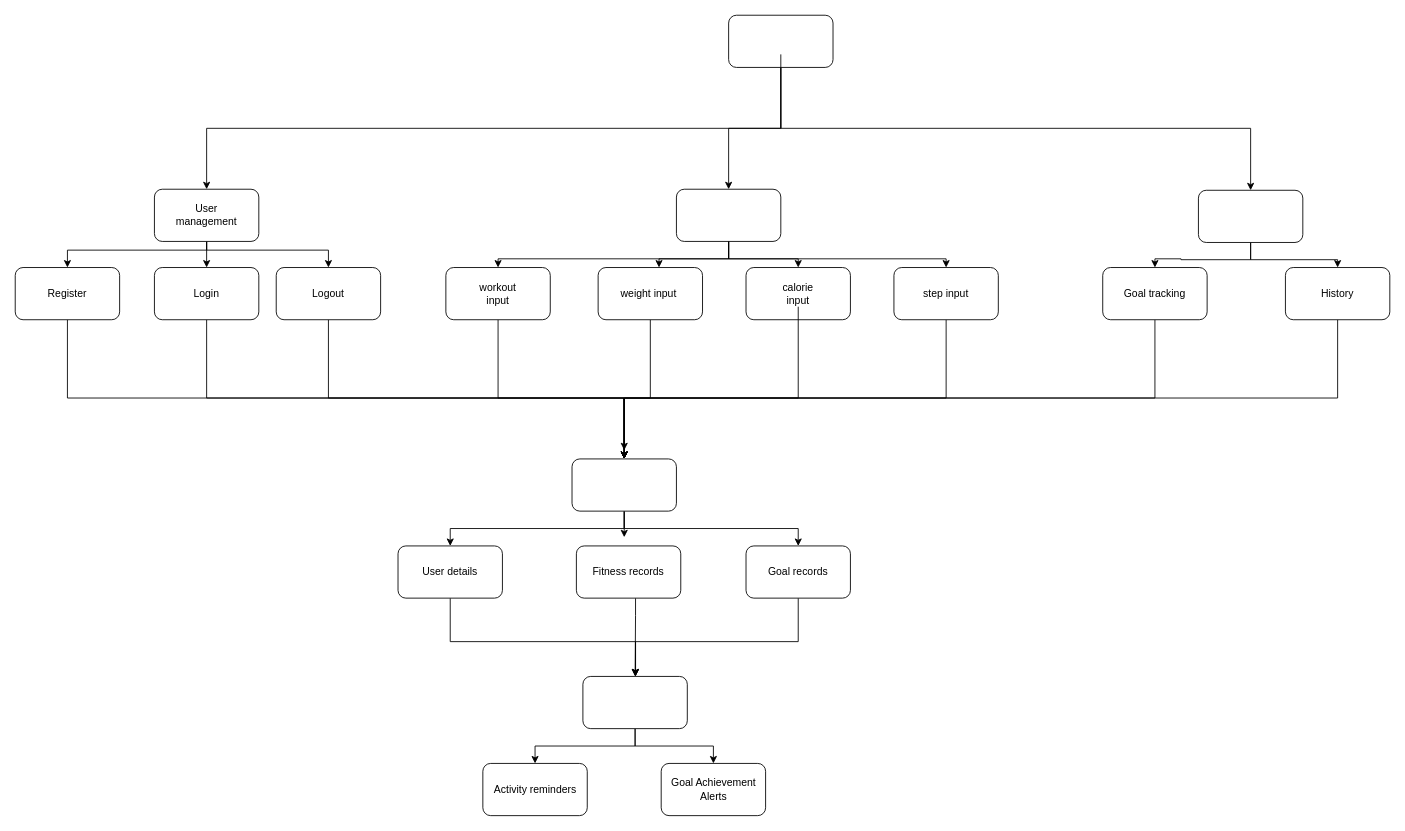
Image size: 1405x831. Some labels were removed from this diagram. Here are the shapes that lost their labels. From the top down, the box of each, then its label:
(728, 14, 833, 67): Fitness Tracker
(676, 188, 781, 241): Fitness Management
(1198, 189, 1303, 242): Progress Management
(571, 458, 676, 511): Database Management
(582, 676, 687, 729): Notification System
